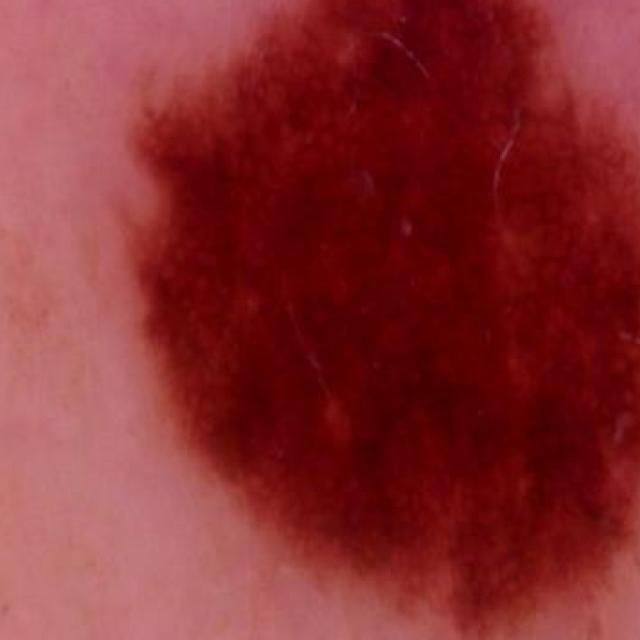NV: (103, 0, 640, 640)
